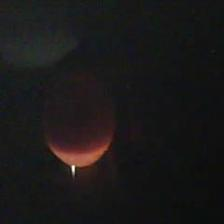fertile: (37, 66, 120, 171)
